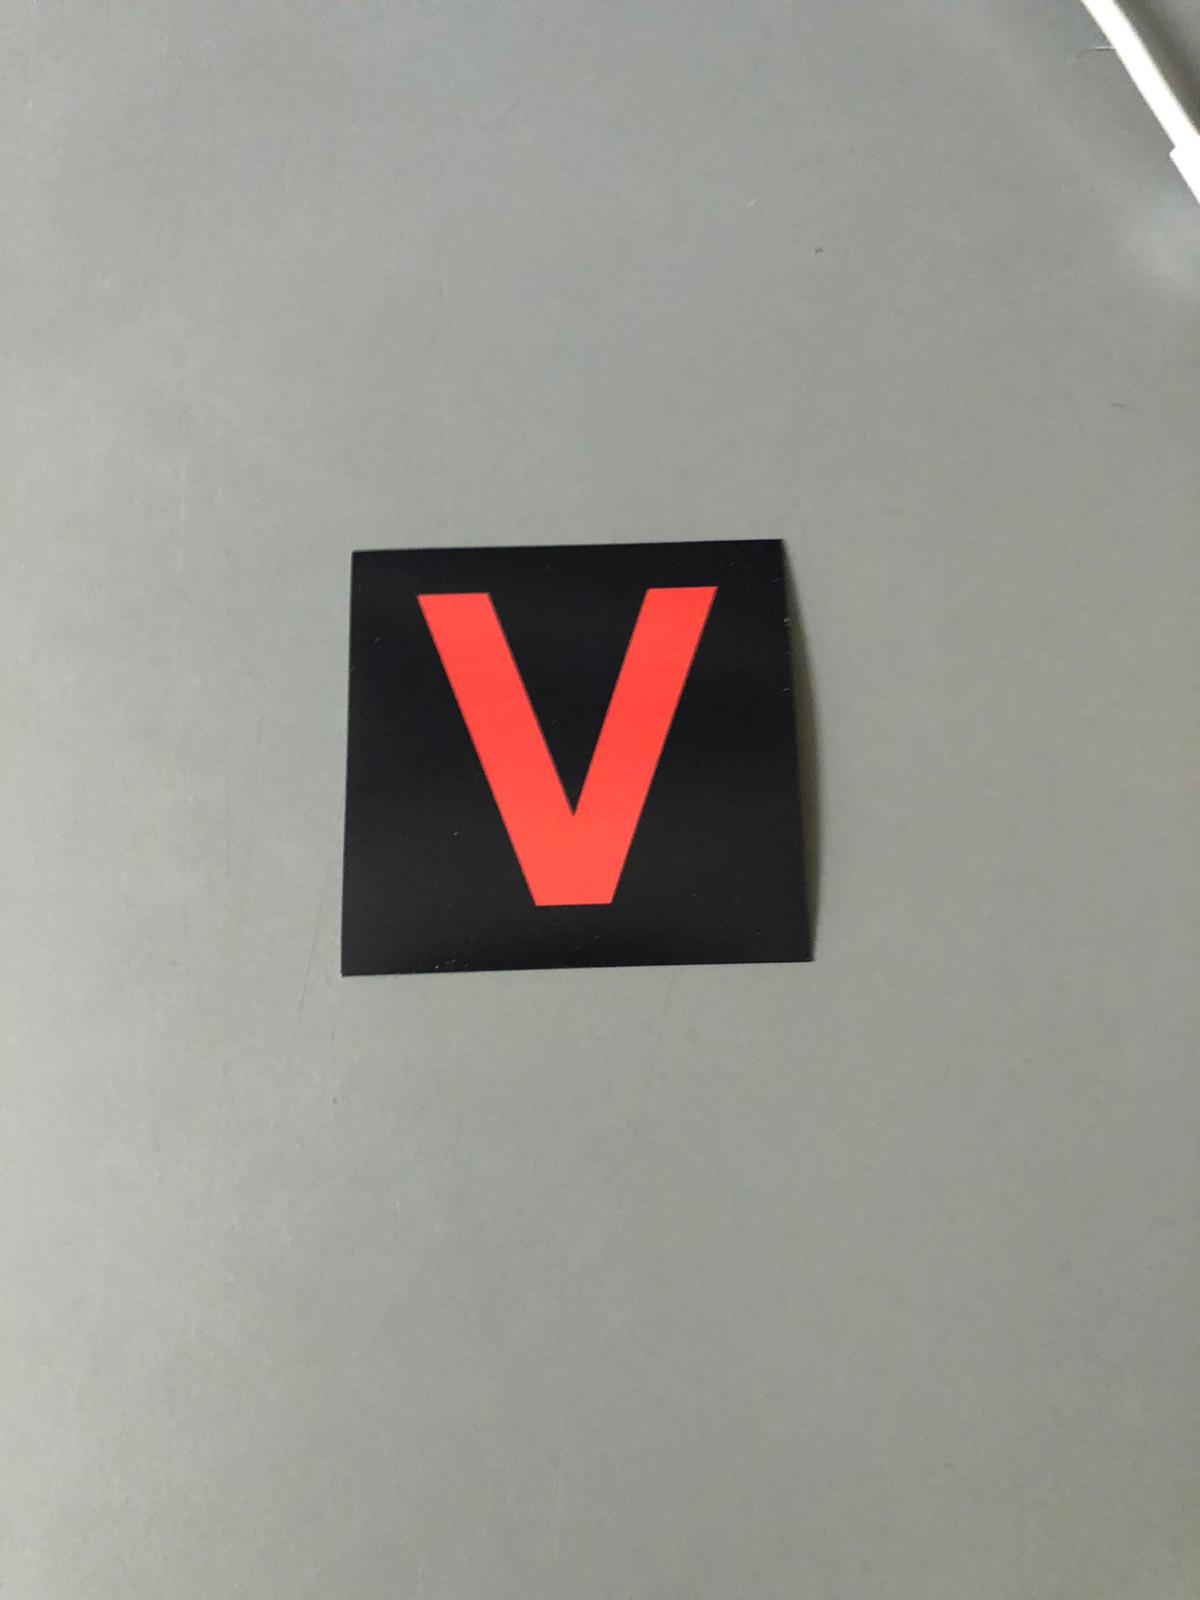V: (352, 559, 793, 944)
